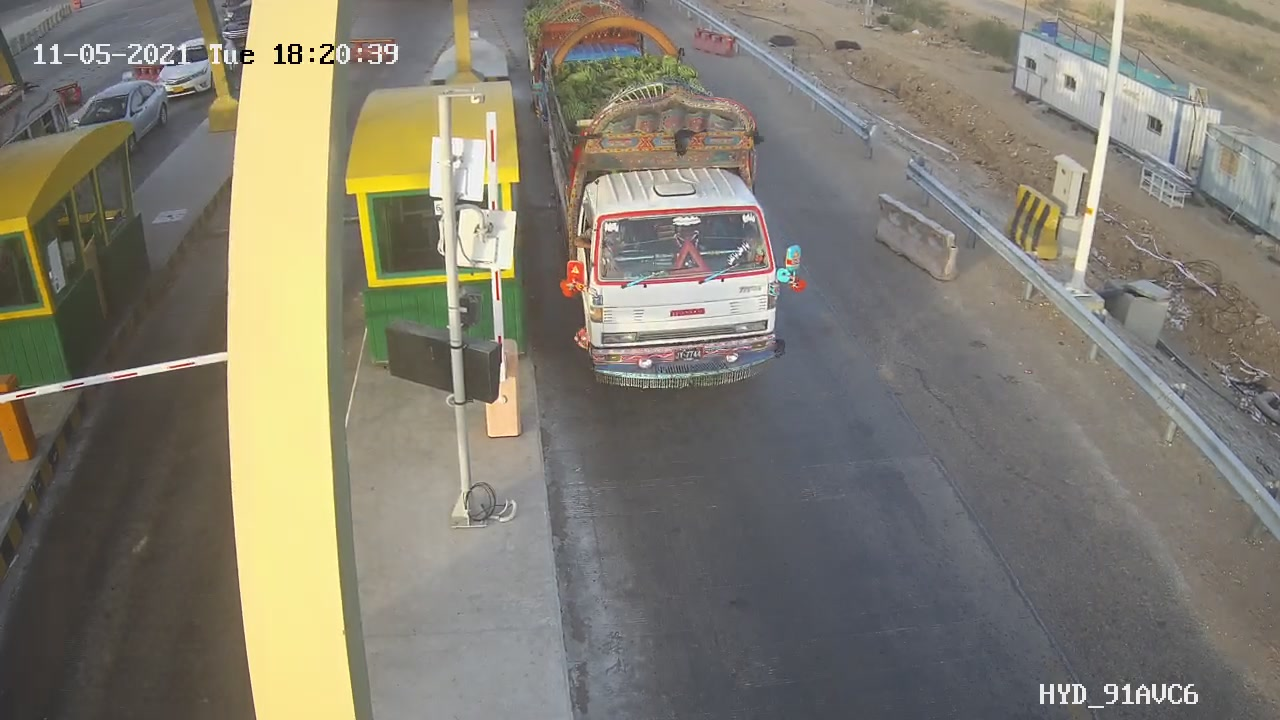F5: (540, 63, 816, 392)
